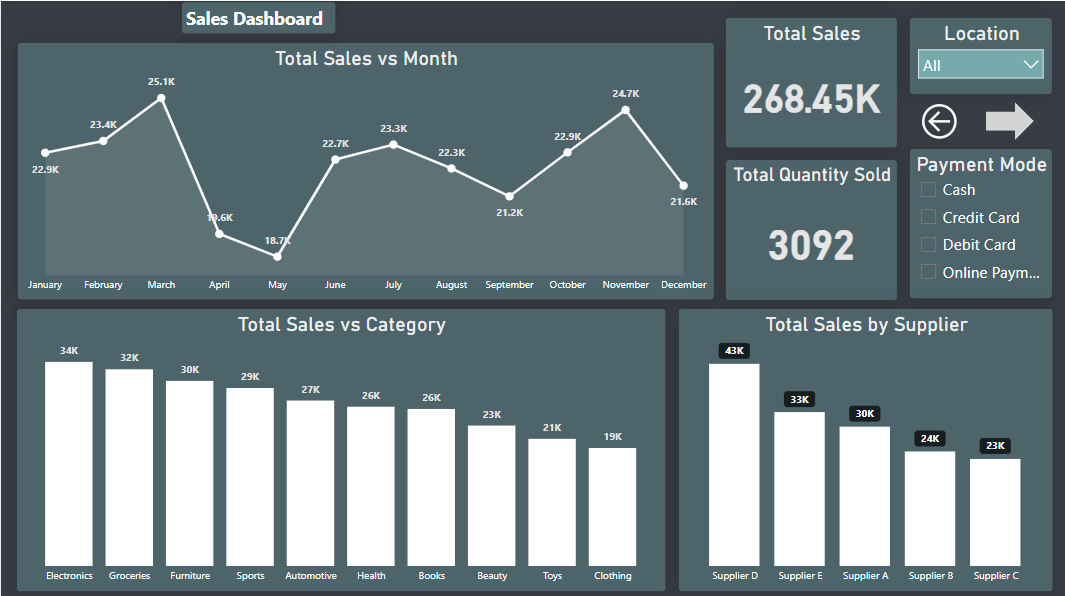

Layout of this report page (visuals, bound fields, positions):
{"tool":"powerbi","page":{"name":"Sales Dashboard","canvas":[1280,720],"ordinal":1},"visuals":[{"type":"lineChart","title":"Total Sales vs Month","fields":{"Category":["sales.sale_date.Variation.Date Hierarchy.Month"],"Y":["sales.Total Sales"]},"box":[19.3,49.5,839.6,311.1],"z":0},{"type":"card","title":"Total Quantity Sold","fields":{"Values":["sales.Total Quantity Sold"]},"box":[871.2,189.9,207.8,170.7],"z":1000},{"type":"card","title":"Total Sales","fields":{"Values":["sales.Total Sales"]},"box":[871.2,19.3,207.8,158.3],"z":2000},{"type":"columnChart","title":"Total Sales vs Category","fields":{"Category":["products.category"],"Y":["sales.Total Sales"]},"box":[18.6,369.5,782.9,341.6],"z":3000},{"type":"slicer","title":"Location","fields":{"Values":["customers.location"]},"box":[1092.8,19.3,173.4,93.6],"z":4000},{"type":"slicer","title":"Payment Mode","fields":{"Values":["sales.payment_mode"]},"box":[1092.8,177.5,173.4,181.7],"z":5000},{"type":"textbox","box":[216.7,0,187.4,39.9],"z":7000},{"type":"lineStackedColumnComboChart","title":"Total Sales by Supplier","fields":{"Category":["inventory.supplier_name"],"Y":["sales.Total Sales"]},"box":[814.8,369.5,451.9,341.6],"z":8000},{"type":"actionButton","box":[1102.3,118.2,113,53.9],"z":8001},{"type":"shape","box":[1186.4,122.2,57.8,46],"z":8002}]}

Visuals, with their boxes in screenshot pixels (x1, y1, x2, y2), scaled from the page's 1280x720 canvas onto the 1065x596 screenshot:
"Total Sales vs Month" lineChart: crop(16, 41, 715, 298)
"Total Quantity Sold" card: crop(725, 157, 898, 298)
"Total Sales" card: crop(725, 16, 898, 147)
"Total Sales vs Category" columnChart: crop(15, 306, 667, 589)
"Location" slicer: crop(909, 16, 1054, 93)
"Payment Mode" slicer: crop(909, 147, 1054, 297)
textbox: crop(180, 0, 336, 33)
"Total Sales by Supplier" lineStackedColumnComboChart: crop(678, 306, 1054, 589)
actionButton: crop(917, 98, 1011, 142)
shape: crop(987, 101, 1035, 139)
